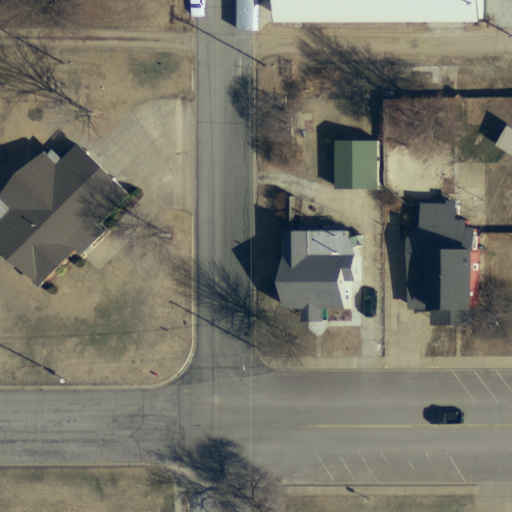DT: (26, 356, 74, 390), (232, 50, 275, 81), (237, 340, 266, 375)
